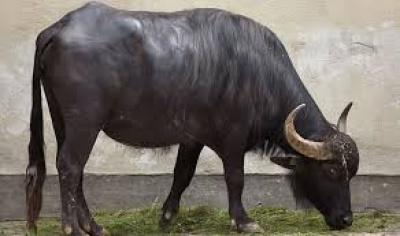buffalo: (26, 2, 358, 235)
